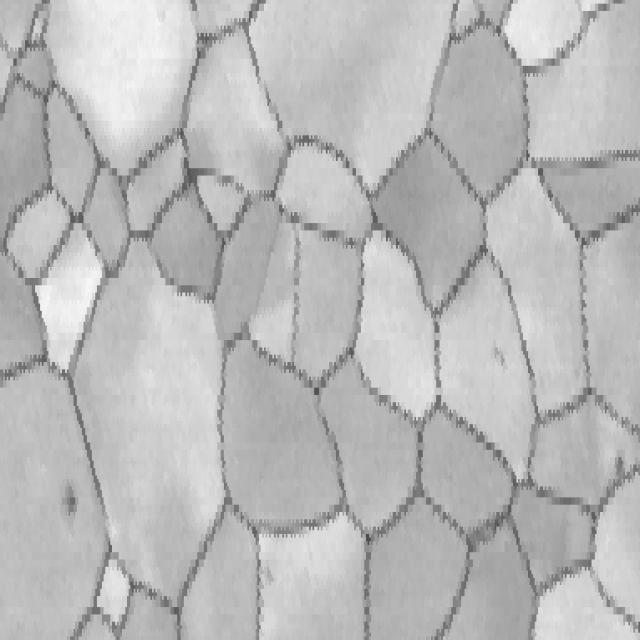good_void: (480, 321, 512, 381), (60, 490, 81, 535), (613, 447, 628, 480)
